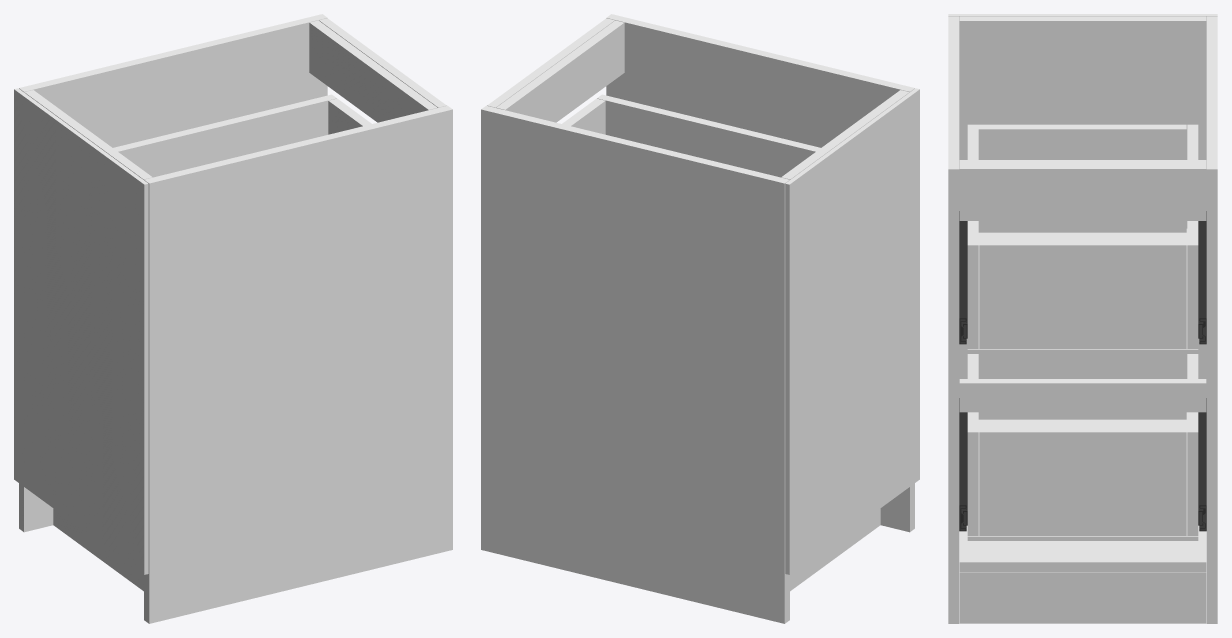
File: TUBEP-COHOCTU.glb
3 renders of one model, left to right at view 1: azimuth 30°, elevation 25°; view 2: azimuth 150°, elevation 25°; view 3: azimuth 270°, elevation 25°, orthographic. The views are drawn at different scales.
Parts seen in each view (by area): view 1: MAIN-H-L, BACK, MAIN-H-R, MAIN-H.002, MAIN-W.001, MAIN-W-B.002, MAIN-W-T, MAIN-W, MAIN-W.007; view 2: MAIN-H-R, BACK, MAIN-H-L, MAIN-H.003, MAIN-W.001, MAIN-W-B.002, MAIN-W-T, MAIN-W, MAIN-W.007; view 3: MAIN-W.004, MAIN-W.007, BACK, MAIN-W-T, MAIN-W, MAIN-W-B, MAIN-W.009, MAIN-W.002, MAIN-W-B.001, MAIN-H-R, MAIN-H-L, MAIN-W.006 (+11 smaller).
Part boxes in pixels (x1,y1,x2,y2): MAIN-H-L: (144, 105, 452, 623); BACK: (14, 88, 148, 574); MAIN-H-R: (19, 14, 327, 532); MAIN-H.002: (113, 94, 336, 177); MAIN-W.001: (309, 20, 437, 122); MAIN-W-B.002: (53, 508, 143, 591); MAIN-W-T: (24, 90, 152, 179); MAIN-W: (319, 18, 446, 107); MAIN-W.007: (328, 98, 371, 134); MAIN-H-R: (481, 105, 789, 623); BACK: (785, 88, 919, 574); MAIN-H-L: (606, 14, 914, 532); MAIN-H.003: (597, 94, 820, 177); MAIN-W.001: (496, 20, 624, 122); MAIN-W-B.002: (790, 508, 880, 591); MAIN-W-T: (781, 90, 909, 179); MAIN-W: (487, 18, 614, 107); MAIN-W.007: (562, 98, 605, 134); MAIN-W.004: (979, 427, 1186, 535); MAIN-W.007: (979, 240, 1186, 348); BACK: (948, 14, 1217, 397); MAIN-W-T: (959, 16, 1206, 72); MAIN-W: (959, 164, 1206, 220); MAIN-W-B: (959, 572, 1206, 623); MAIN-W.009: (978, 124, 1186, 232); MAIN-W.002: (959, 379, 1206, 412); MAIN-W-B.001: (959, 412, 1206, 572); MAIN-H-R: (1206, 16, 1217, 623); MAIN-H-L: (948, 16, 959, 623); MAIN-W.006: (978, 354, 1186, 419).
Size of the model in its own units: 0.579 by 0.79 by 0.424.
Materials: 3 (2 with a texture image).
